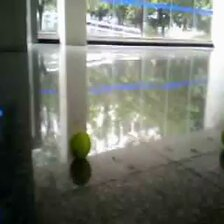tennis: (69, 132, 91, 156)
